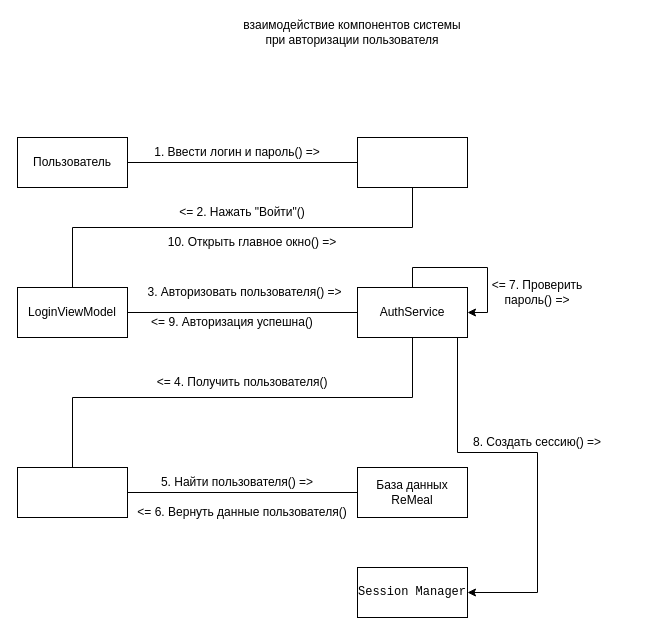
Image size: 645x635. Some labels were removed from this diagram. Here are the shapes that lost their labels. From the top down, the centre of each, then its label:
(412,162): LoginView
(72,492): UserRepository
